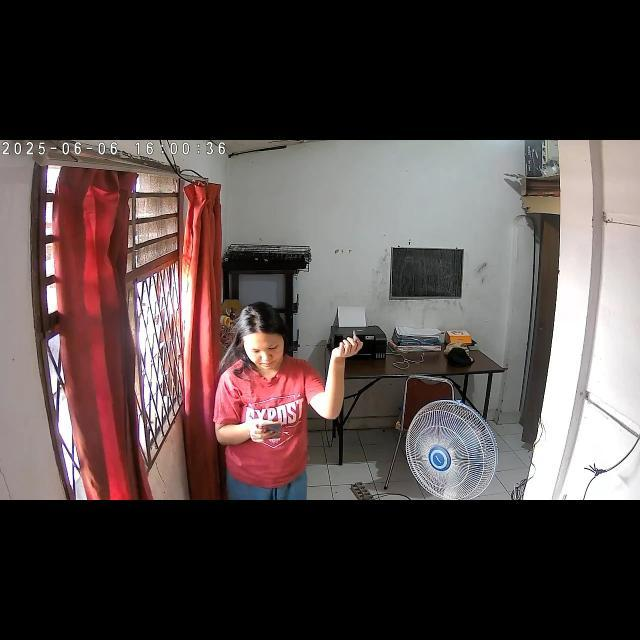rokok: (349, 327, 361, 351)
